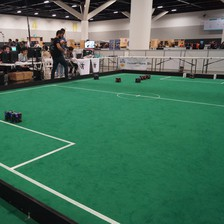goal: (182, 70, 217, 80)
robot: (10, 111, 24, 124), (3, 108, 12, 121), (114, 75, 122, 83), (92, 72, 100, 80), (187, 71, 194, 79), (133, 77, 140, 83), (140, 73, 144, 80), (145, 73, 148, 80)
